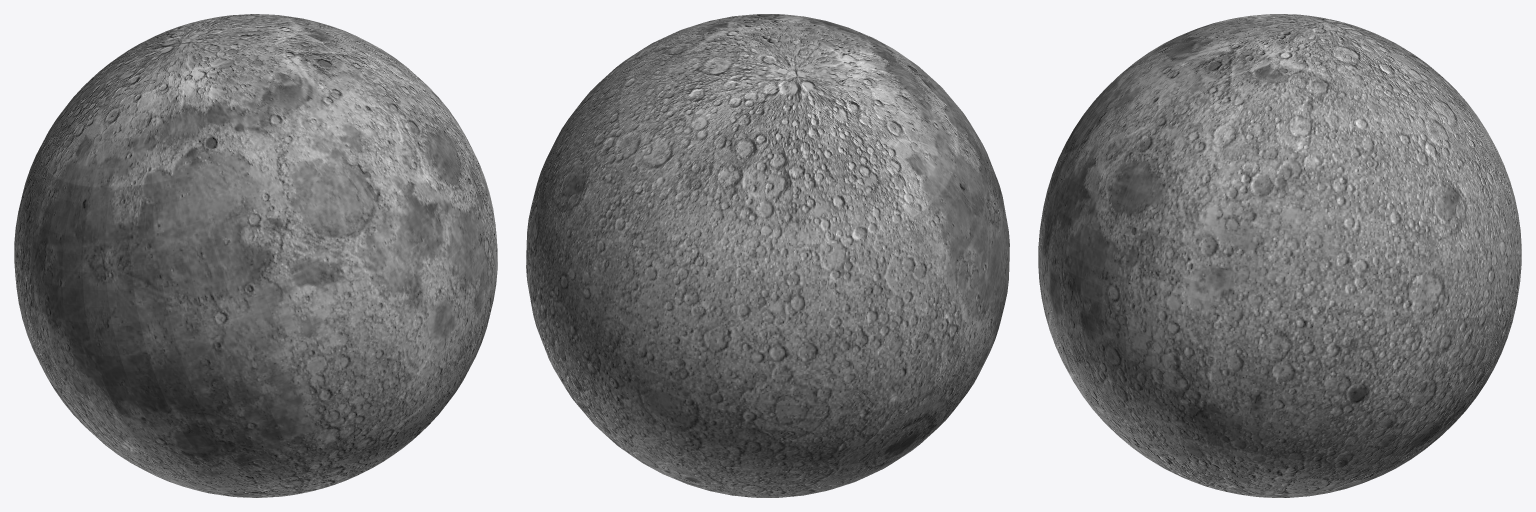
Rendered from moon.obj.
3 views of the same model, side by side, from view 1: azimuth 30°, elevation 25°; view 2: azimuth 150°, elevation 25°; view 3: azimuth 270°, elevation 25° (orthographic).
Parts seen in each view (by area): view 1: Plane; view 2: Plane; view 3: Plane.
Boxes of the visible parts, bbox=[...] form: Plane: bbox=[14, 14, 497, 497]; Plane: bbox=[526, 14, 1009, 497]; Plane: bbox=[1038, 14, 1521, 497].
Size of the model in its own units: 2.61 by 2.61 by 2.61.
1 material, 1 textured.
